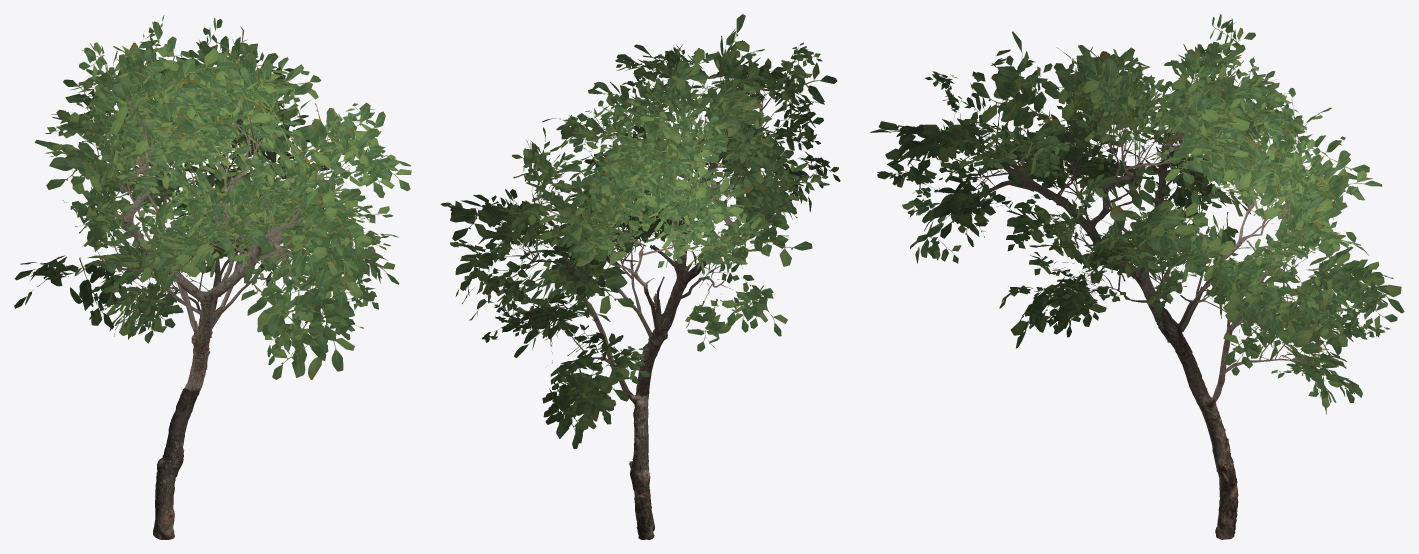
File: tree_elm.glb
The picture shows the model from 3 angles, left to right: view 1: azimuth 30°, elevation 25°; view 2: azimuth 150°, elevation 25°; view 3: azimuth 270°, elevation 25°; orthographic projection. The views are drawn at different scales.
Parts seen in each view (by area): view 1: tree_small_02_LOD0; view 2: tree_small_02_LOD0; view 3: tree_small_02_LOD0.
Boxes of the visible parts, bbox=[...] form: tree_small_02_LOD0: bbox=[14, 15, 411, 539]; tree_small_02_LOD0: bbox=[440, 14, 840, 539]; tree_small_02_LOD0: bbox=[870, 14, 1404, 539].
Bounding box in the file's own units: 5.52 × 8.18 × 7.88.
3 materials, 3 textured.
